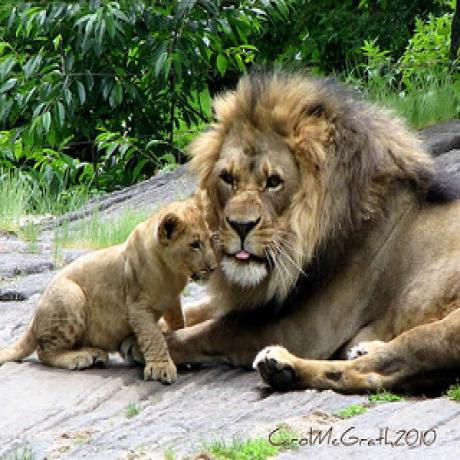Lion: (201, 74, 460, 397), (0, 202, 211, 388)
